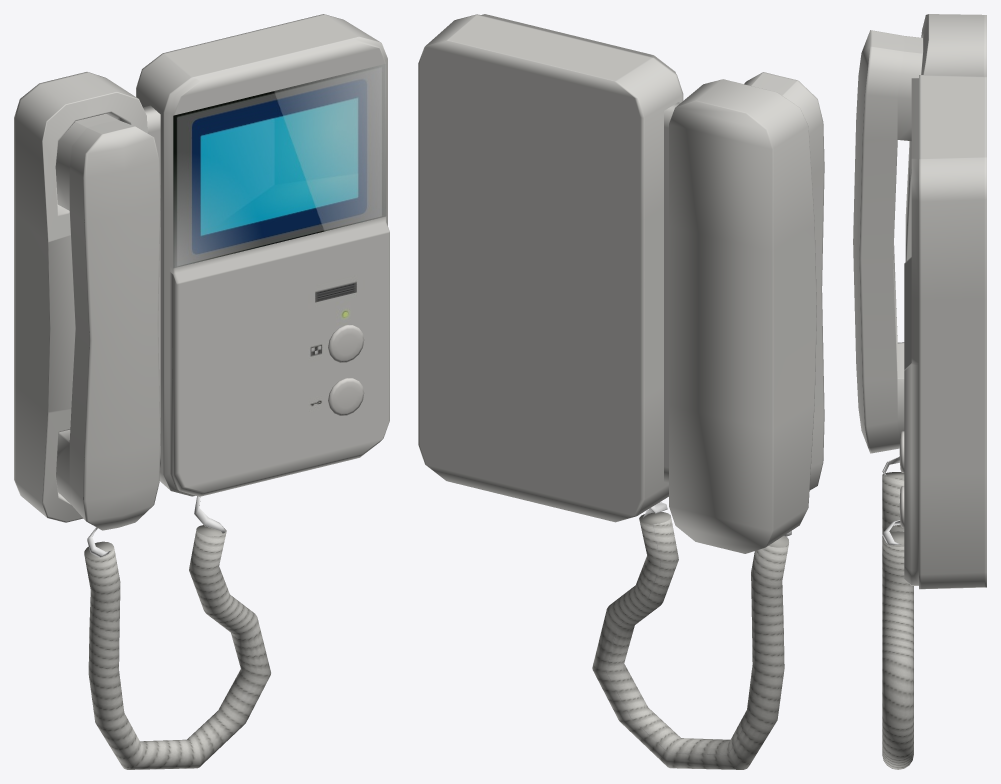
The model's file is intercome.glb.
The picture shows the model from 3 angles, left to right: view 1: azimuth 30°, elevation 25°; view 2: azimuth 150°, elevation 25°; view 3: azimuth 270°, elevation 25°; orthographic projection. The views are drawn at different scales.
Visible parts, largest first — view 1: Object_2, Object_3, Object_5; view 2: Object_2, Object_3; view 3: Object_2, Object_3, Object_5, Object_6.
Part boxes in pixels (box(x1,y1,x2,y2)): Object_2: box(14, 14, 389, 530); Object_3: box(84, 525, 270, 769); Object_5: box(328, 324, 364, 415); Object_2: box(418, 14, 824, 553); Object_3: box(592, 512, 788, 769); Object_2: box(853, 14, 986, 589); Object_3: box(882, 472, 913, 769); Object_5: box(899, 431, 904, 527); Object_6: box(882, 456, 901, 545).
Bounding box in the file's own units: 19.06 × 35.98 × 6.25.
Materials: 5 (2 with a texture image).
